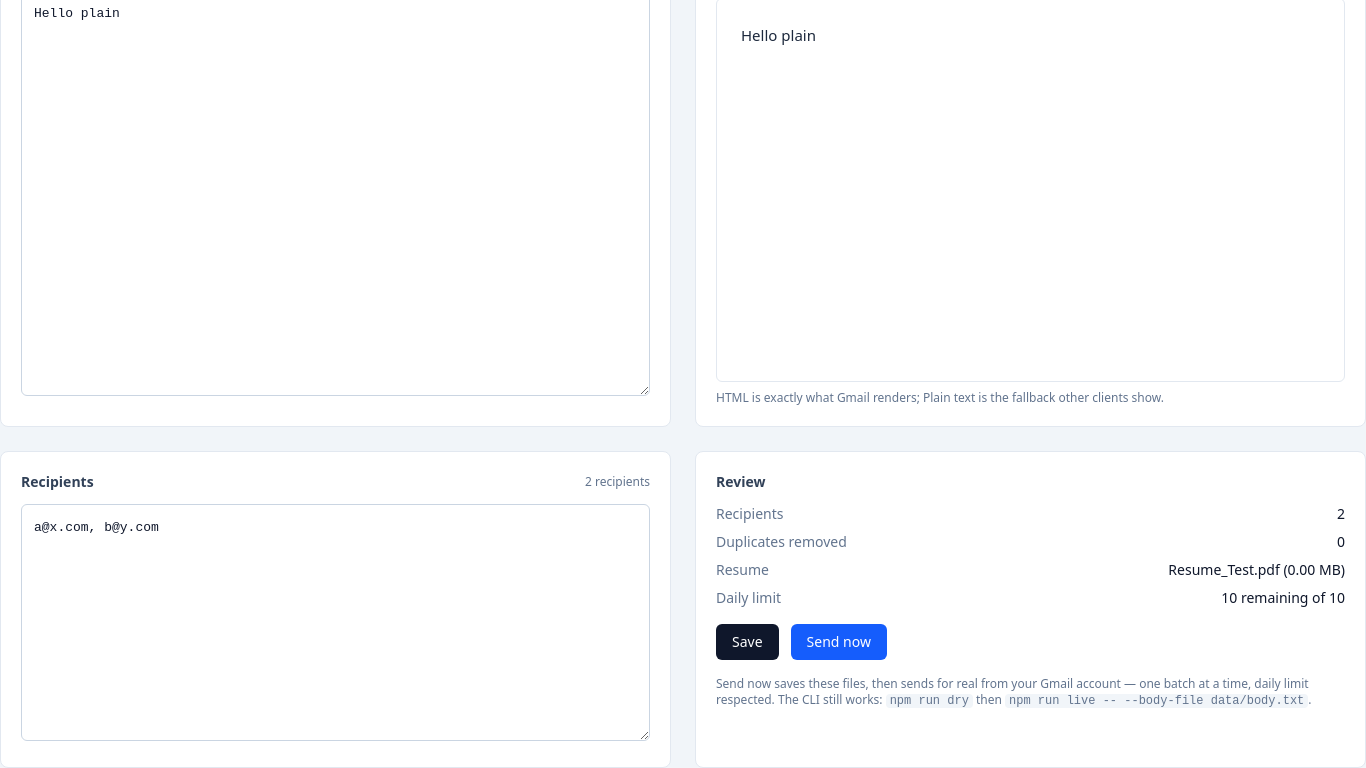
Scenario: ComposeClient › counts recipients and removed duplicates live
(page scrolled)
Replace the text in the text box named "Recipients" with "a@x.com, A@X.com, b@y.com": (336, 623) [21, 504, 650, 741]
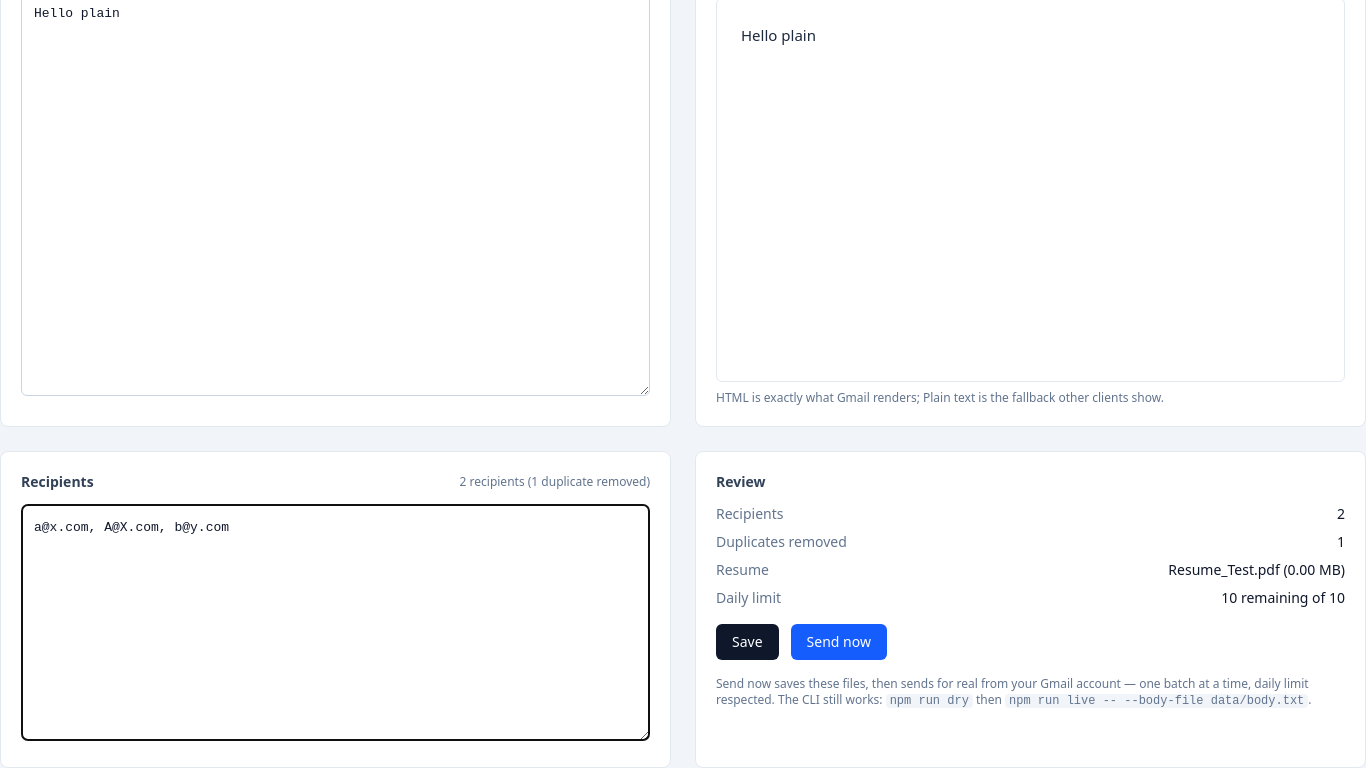
Expected: the text "2 recipients (1 duplicate removed)" is shown, [460, 474, 650, 490]
